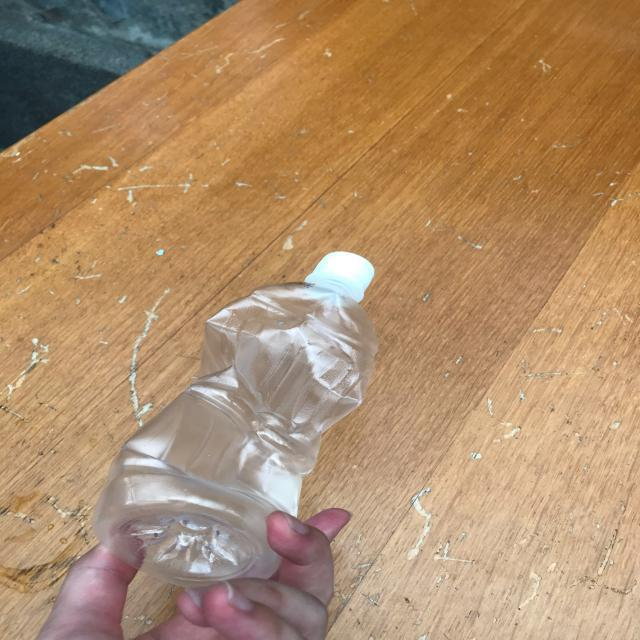bottle: (93, 252, 376, 588)
